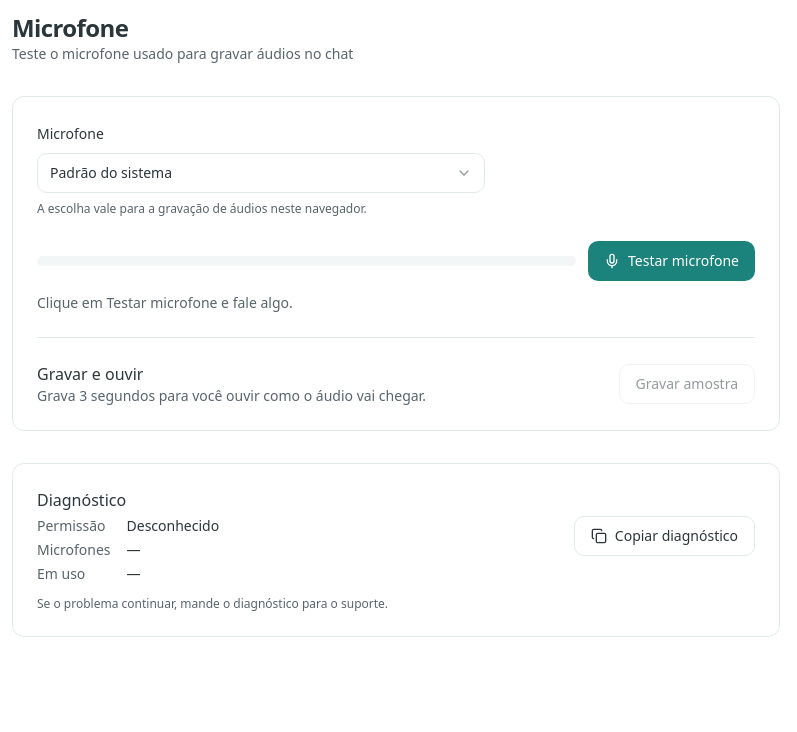
Test: MicrophoneSettings › permissão negada aponta para o cadeado do navegador
The image size is (797, 732).
What coordinates should you click on to do the following:
click the button "Testar microfone"
I would click on:
 (672, 261)
Its box is [588,241,755,281].
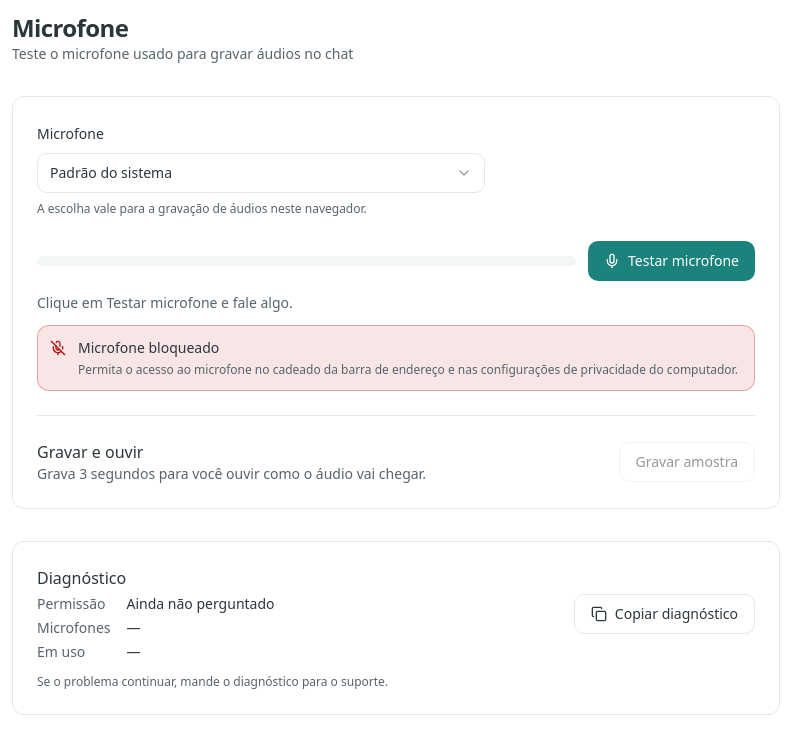
Result: the message shows "Microfone bloqueado" at [78,338,219,357]
Result: the message shows "cadeado" at [78,361,738,378]
